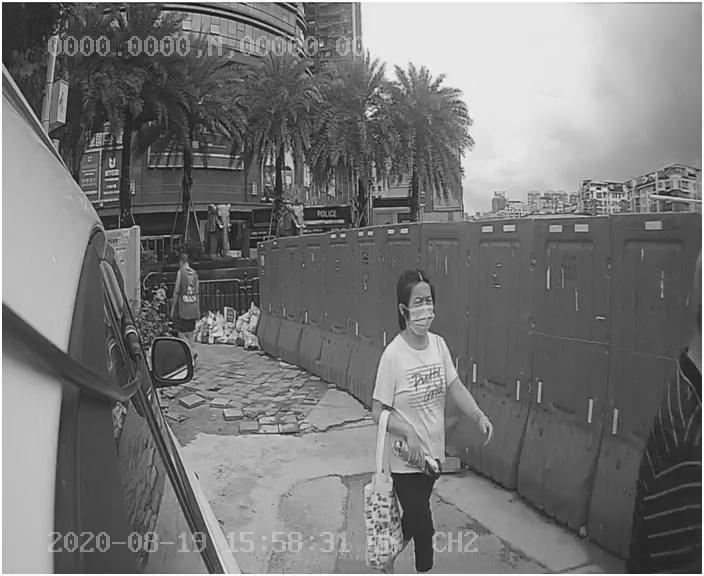person: (364, 265, 502, 532)
